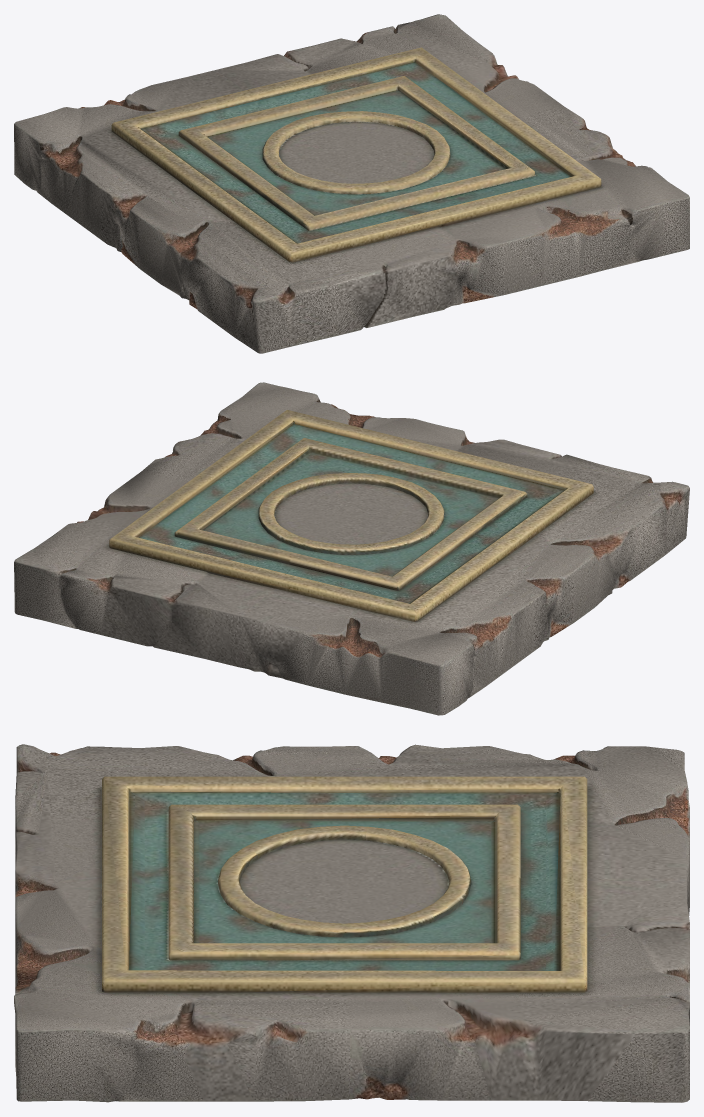
File: tripo_convert_ece8bb08-359b-4019-bb33-f04a785bb56a.fbx
The picture shows the model from 3 angles, top to bottom: view 1: azimuth 30°, elevation 25°; view 2: azimuth 150°, elevation 25°; view 3: azimuth 270°, elevation 25°; orthographic projection. The views are drawn at different scales.
Visible parts, largest first — view 1: tripo_node_ece8bb08; view 2: tripo_node_ece8bb08; view 3: tripo_node_ece8bb08.
Part boxes in pixels (x1,y1,x2,y2): tripo_node_ece8bb08: (14, 14, 689, 353); tripo_node_ece8bb08: (14, 382, 689, 715); tripo_node_ece8bb08: (14, 744, 689, 1102).
Size of the model in its own units: 0.998 by 0.1348 by 0.9902.
Materials: 1 (1 with a texture image).
